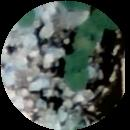Basil: (76, 17, 101, 51), (69, 51, 87, 89)
